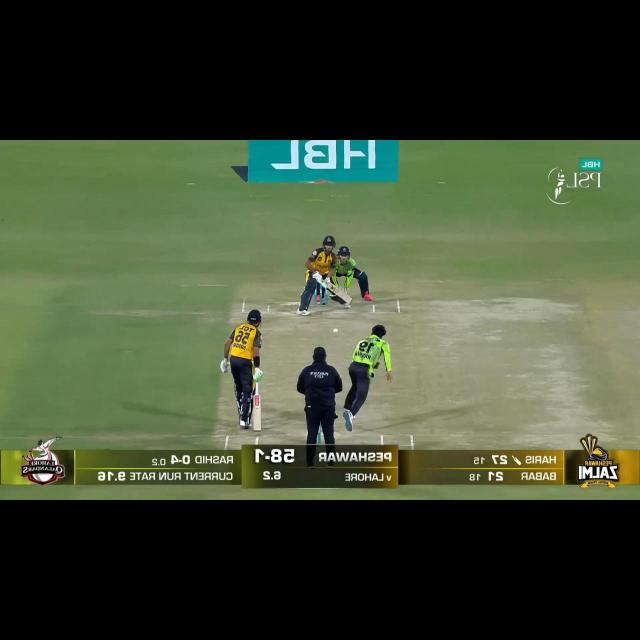bat: (324, 283, 352, 306), (252, 395, 260, 432)
toe: (343, 296, 353, 306), (251, 425, 263, 433)
